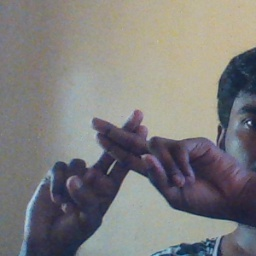F: (48, 97, 196, 207)
